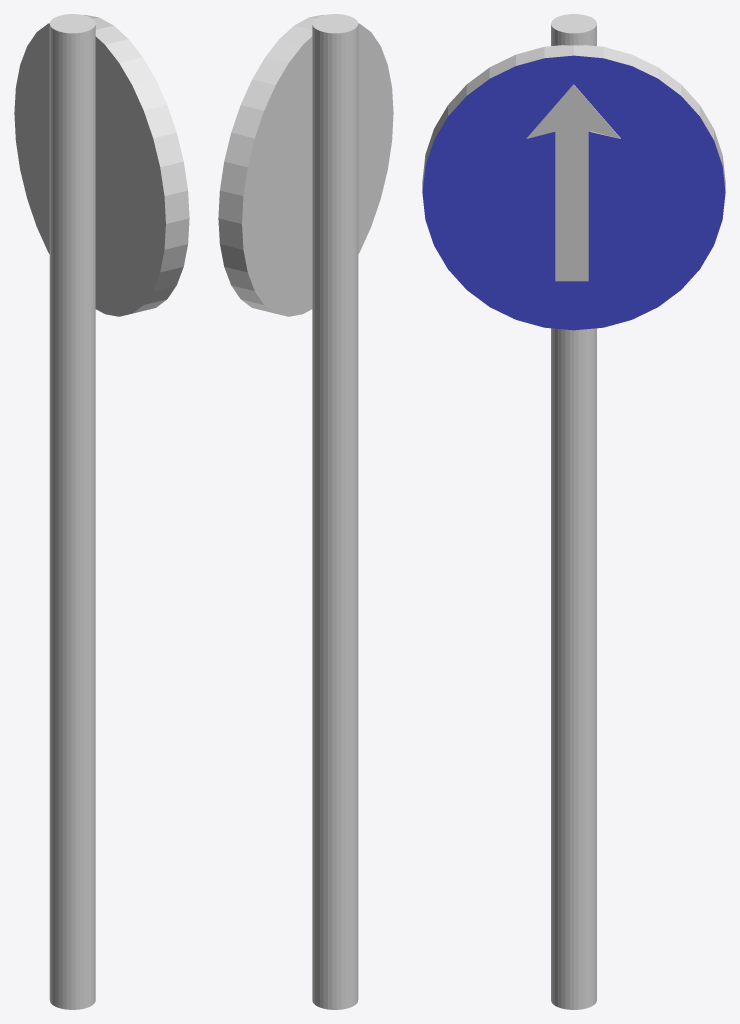
The model's file is SignGoAhead.fbx.
3 views of the same model, side by side, from view 1: azimuth 30°, elevation 25°; view 2: azimuth 150°, elevation 25°; view 3: azimuth 270°, elevation 25° (orthographic).
Parts seen in each view (by area): view 1: Cylinder.014, SignCircle.017; view 2: Cylinder.014, SignCircle.017; view 3: SignCircle.017, Cylinder.014, Cube.002.
Boxes of the visible parts, x1,y1,x2,y2 form: Cylinder.014: (49, 14, 95, 1009); SignCircle.017: (14, 15, 189, 316); Cylinder.014: (312, 14, 358, 1009); SignCircle.017: (218, 15, 393, 316); SignCircle.017: (422, 45, 725, 330); Cylinder.014: (551, 14, 596, 1009); Cube.002: (526, 84, 620, 281).
Size of the model in its own units: 111 by 1671 by 470.
